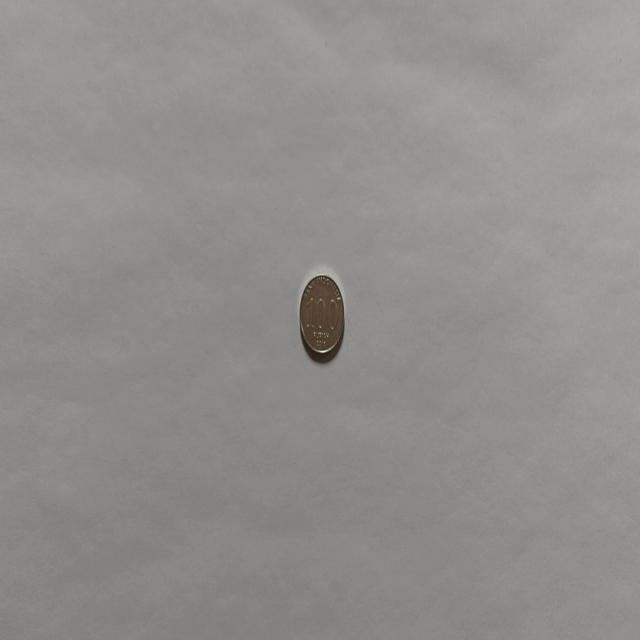seratus rupiah: (298, 272, 346, 359)
